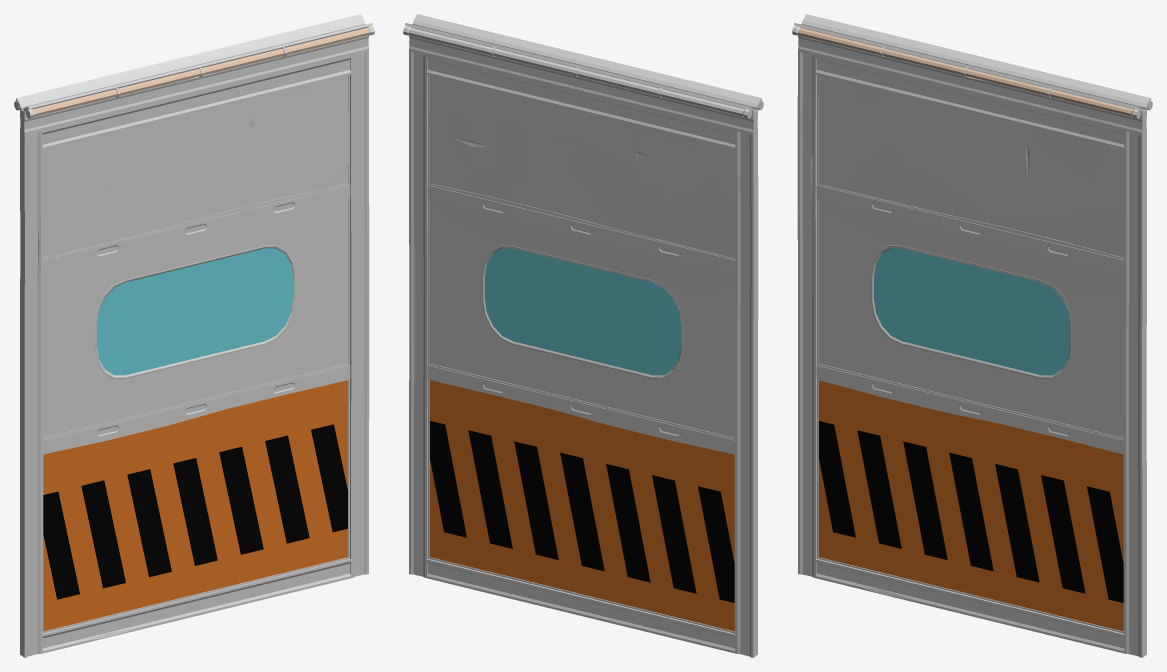
The model's file is SM_Wall_03.glb.
3 views of the same model, side by side, from view 1: azimuth 30°, elevation 25°; view 2: azimuth 150°, elevation 25°; view 3: azimuth 330°, elevation 25° (orthographic).
Visible parts, largest first — view 1: SM_Wall_03; view 2: SM_Wall_03; view 3: SM_Wall_03.
Part boxes in pixels (bbox=[...]): SM_Wall_03: bbox=[14, 14, 374, 657]; SM_Wall_03: bbox=[403, 14, 763, 657]; SM_Wall_03: bbox=[792, 14, 1152, 657].
Size of the model in its own units: 2 by 3.07 by 0.166.
